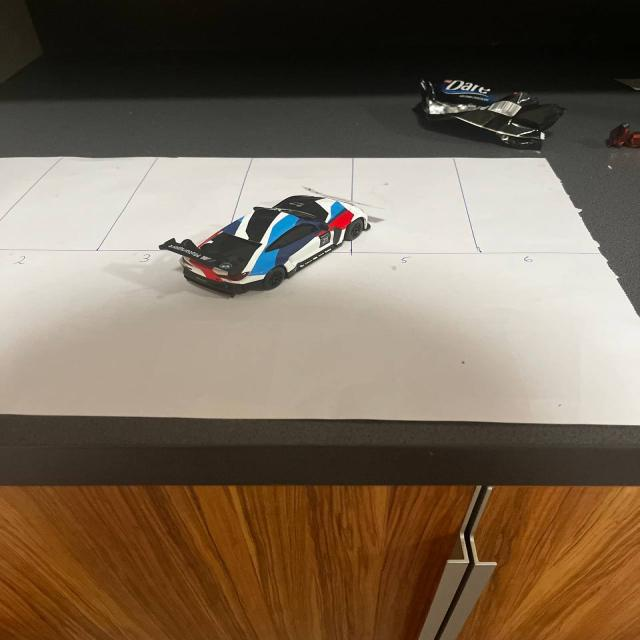cars: (111, 173, 405, 326)
